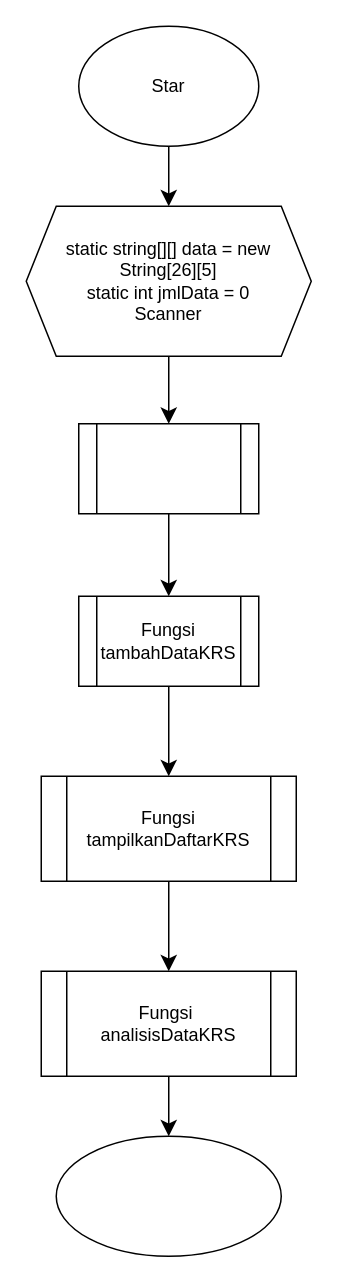
The diagram is 338 pixels wide and 1283 high, and some of its shapes have lost their labels. The centre of each missing label's shape, as x and y in pixels:
End: (x=168, y=1195)
Fungsi main: (x=168, y=468)
